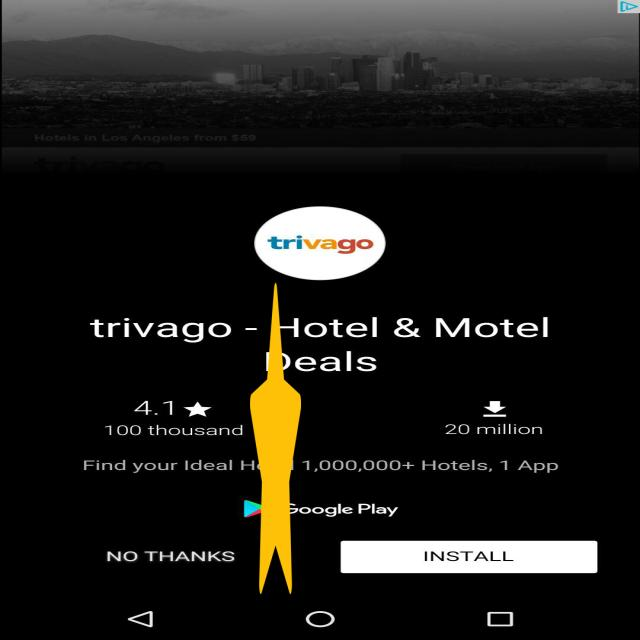forced continuity: (250, 283, 301, 594)
